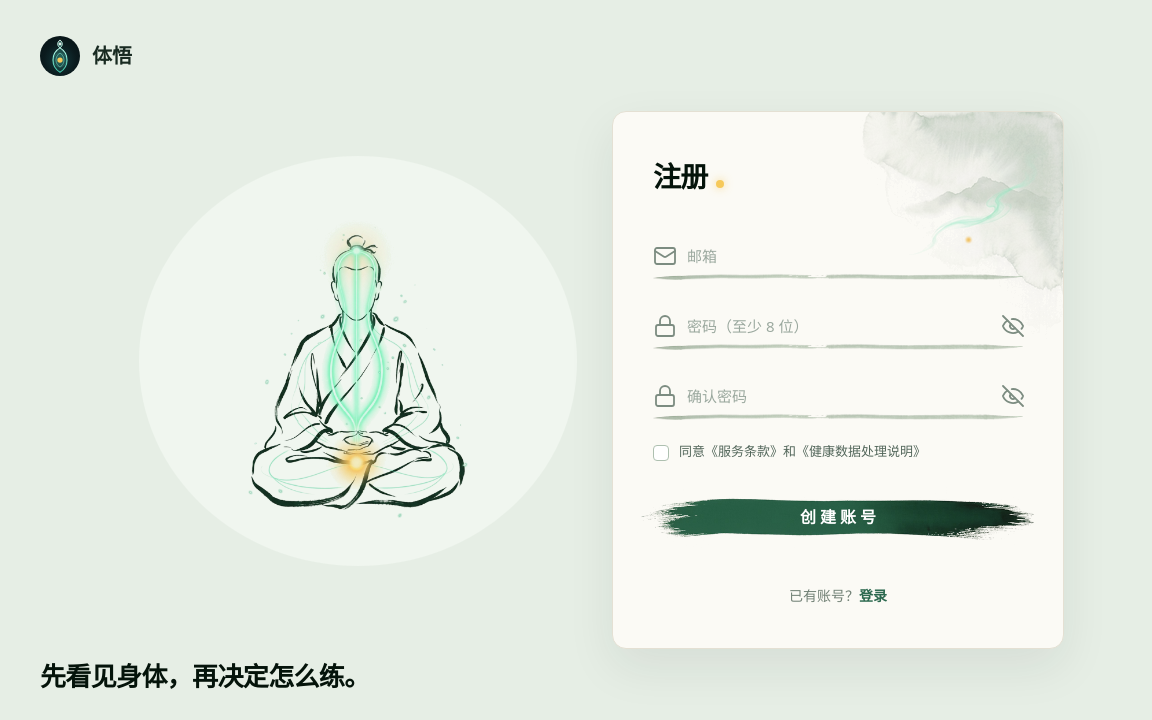
Test case: RegisterPage (Penpot ink register) › requires the confirm password
Click the button "创建账号".
click(838, 517)  # box [635,487,1041,548]
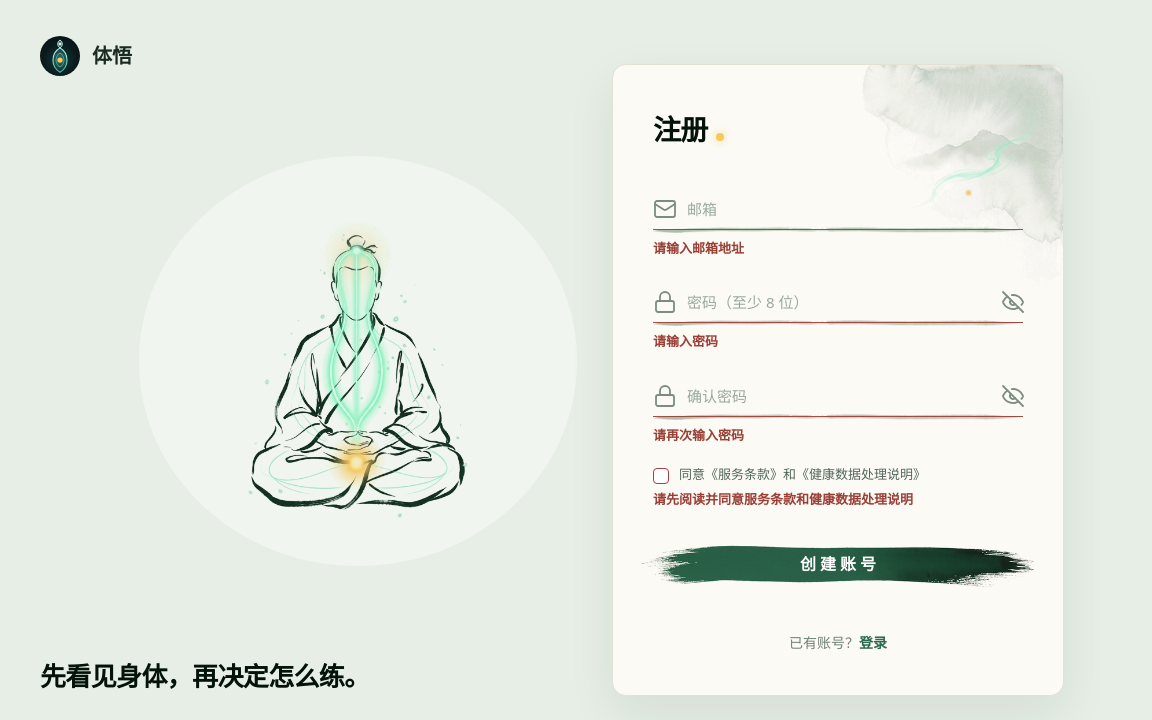
Expected: the text "请再次输入密码" is shown, [653,426,744,444]
